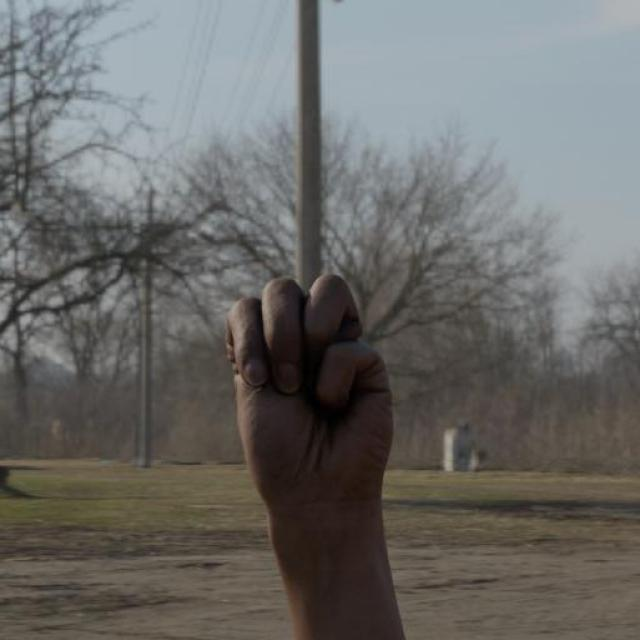M: (224, 268, 397, 511)
